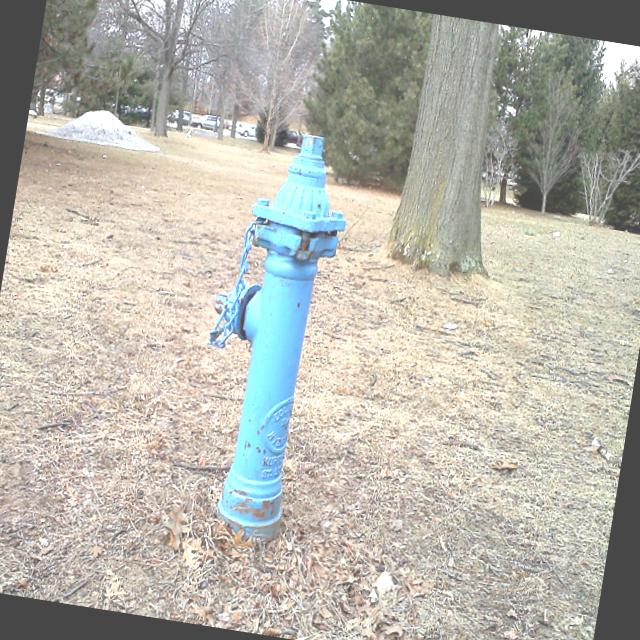Vehicle: (191, 112, 221, 131), (232, 120, 260, 140), (36, 86, 56, 105), (286, 128, 302, 148), (182, 110, 192, 126)
